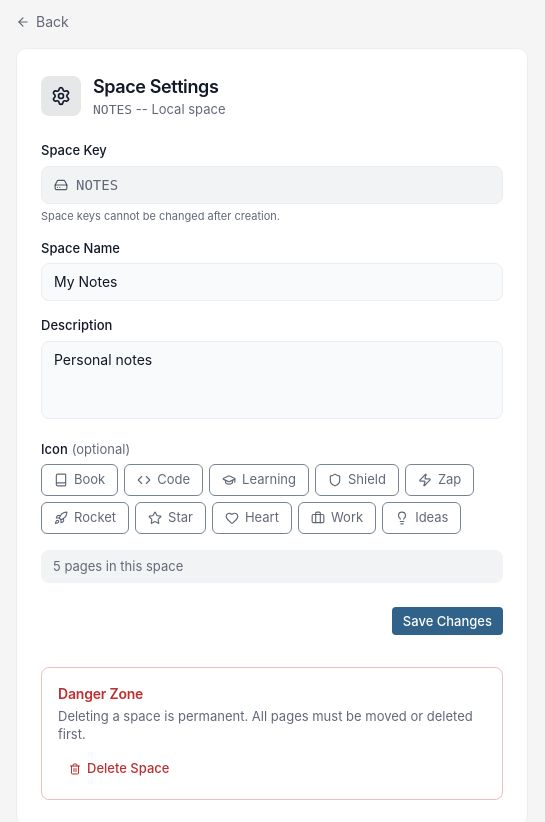
Scenario: SpaceSettingsPage › shows confirm dialog before deleting
The width and height of the screenshot is (545, 822).
Click the button "Delete Space" at [119, 769], box [58,755,180,783]
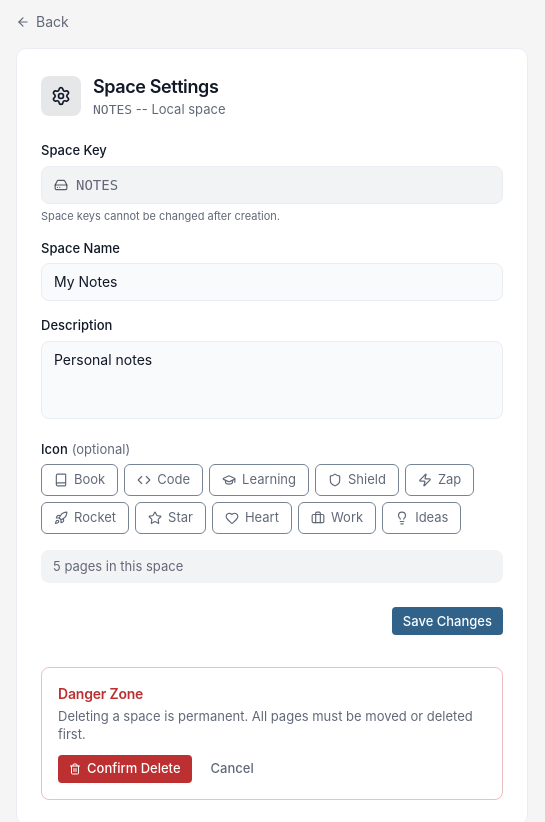
Now the button "Confirm Delete" is shown, box [58,755,192,783]
Now the button "Cancel" is shown, box [200,755,265,783]
